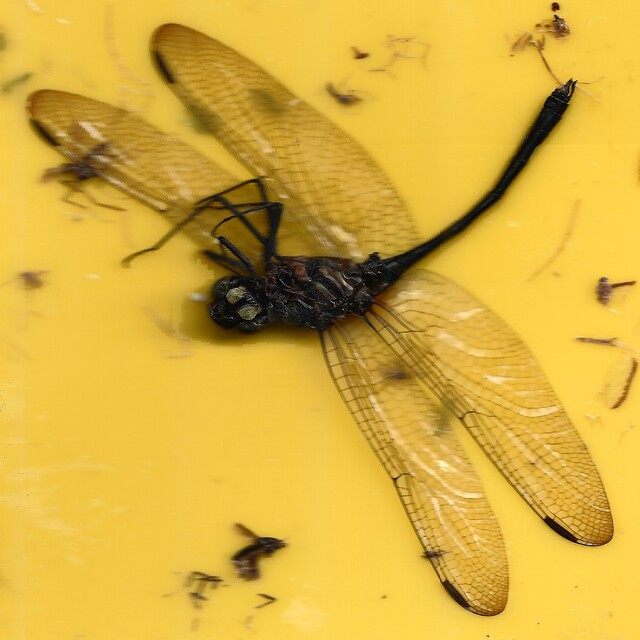Brachycera: (228, 522, 290, 581)
Odonata: (25, 21, 615, 619)
